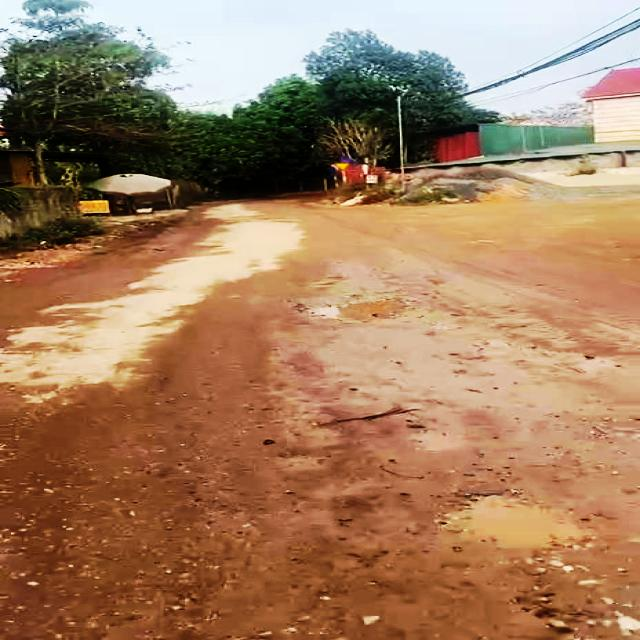pothole: (446, 489, 598, 564), (302, 291, 421, 325)
